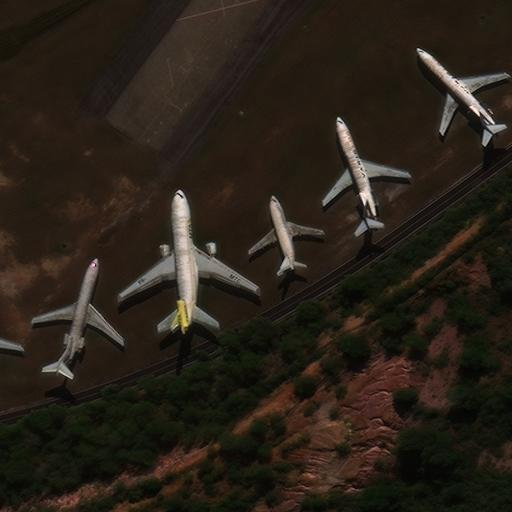Large Civil Transport: (131, 195, 249, 327)
Medium Civil Transport: (42, 261, 116, 371), (328, 119, 402, 225), (418, 50, 506, 133), (255, 199, 317, 267)
